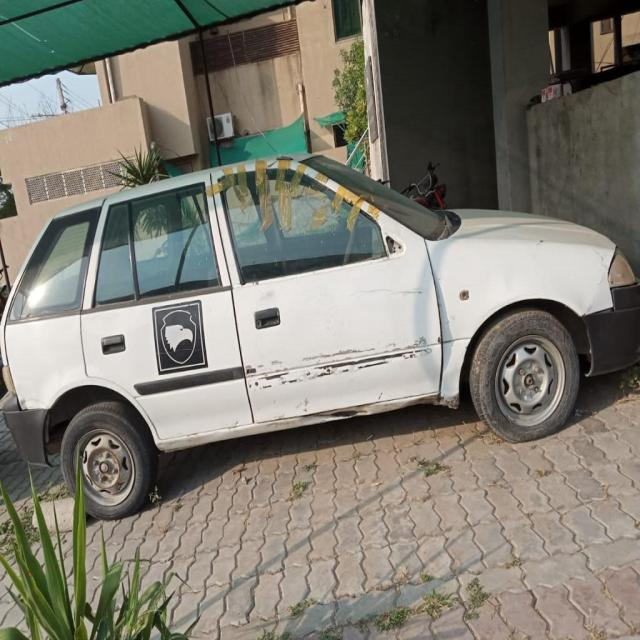scratch: (238, 332, 480, 387), (244, 388, 422, 416)
